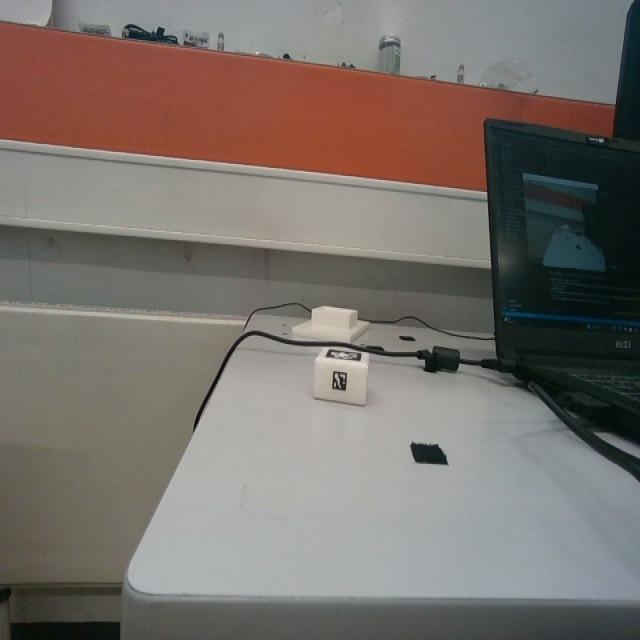Cube: (310, 341, 374, 410), (313, 351, 371, 408)
